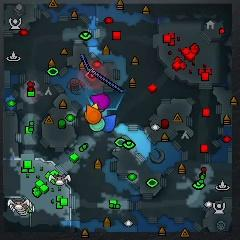p1: (102, 114, 117, 132)
p2: (89, 117, 105, 132)
p3: (90, 93, 110, 110)
p4: (92, 102, 98, 109)
p5: (85, 104, 101, 124)
